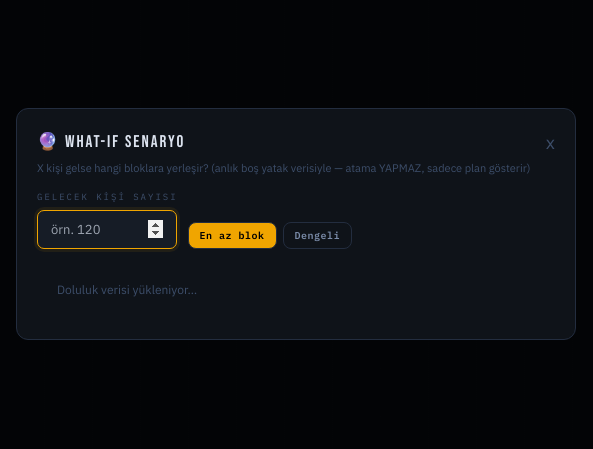
ScenarioPanel smoke › kapasite yetmeyince YER YOK uyarısı
The width and height of the screenshot is (593, 449).
Type "100" into the number field with placeholder "örn. 120". click: (107, 230)
box: [37, 210, 177, 249]
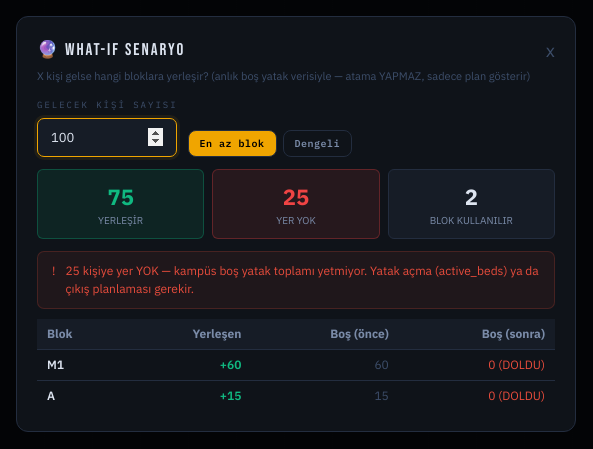
Expected: the text "kişiye yer YOK" is shown, [65, 263, 539, 296]
